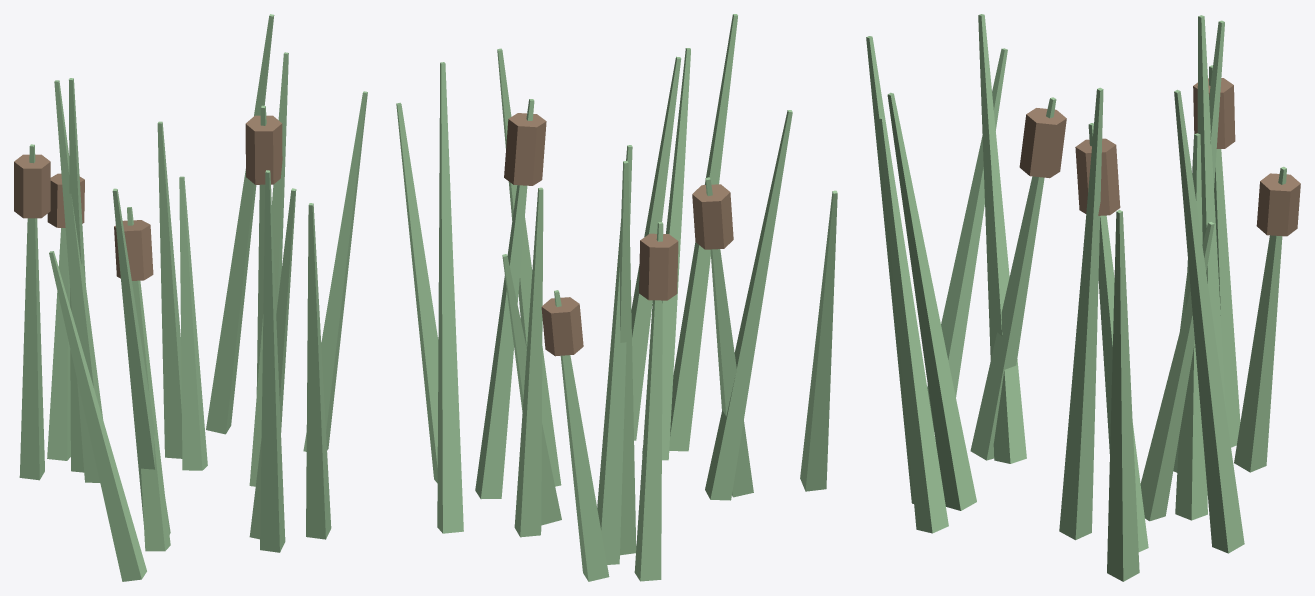
The model's file is prop_reeds.glb.
3 renders of one model, left to right at view 1: azimuth 30°, elevation 25°; view 2: azimuth 150°, elevation 25°; view 3: azimuth 270°, elevation 25°, orthographic. The views are drawn at different scales.
Parts seen in each view (by area): view 1: prop_reeds; view 2: prop_reeds; view 3: prop_reeds.
Boxes of the visible parts, box(x1,y1,x2,y2) form: prop_reeds: box(14, 14, 367, 581); prop_reeds: box(396, 14, 837, 581); prop_reeds: box(866, 14, 1300, 581).
Size of the model in its own units: 1.17 by 1.28 by 1.06.
